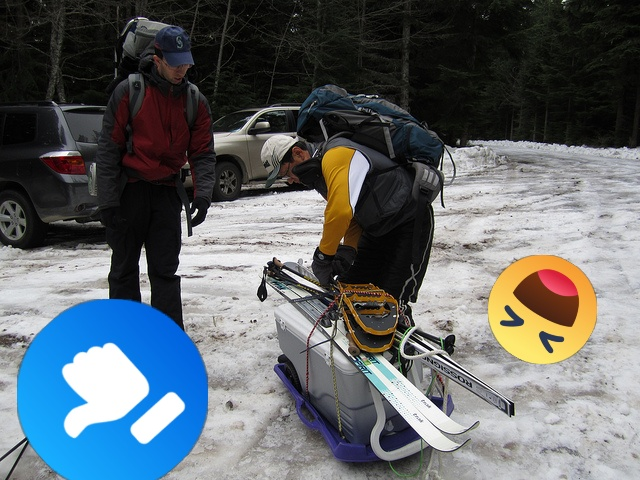haha: (488, 255, 597, 364)
like: (17, 299, 208, 480)
